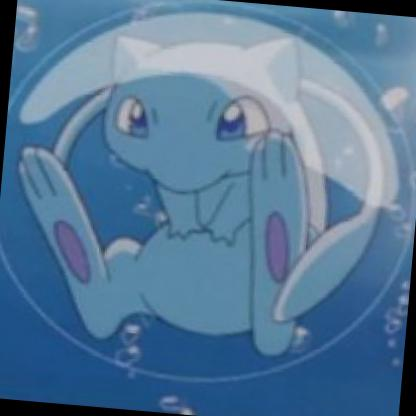Mew: (1, 1, 416, 406)
